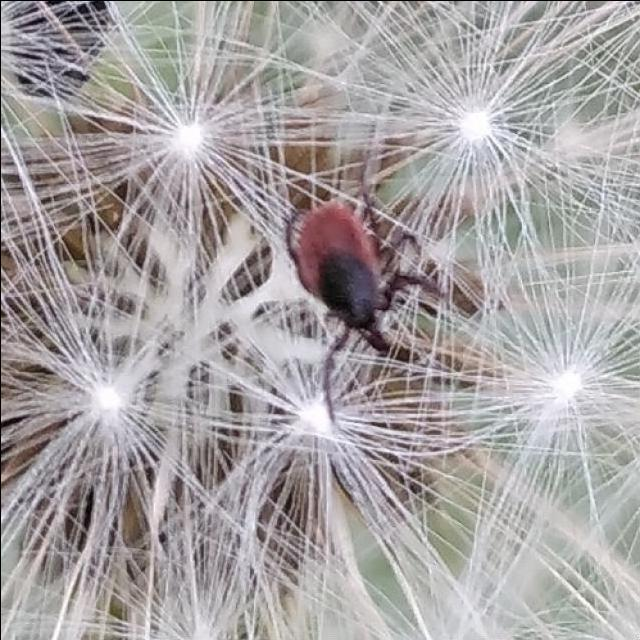Ixodes Ricinus-F: (289, 202, 436, 357)
